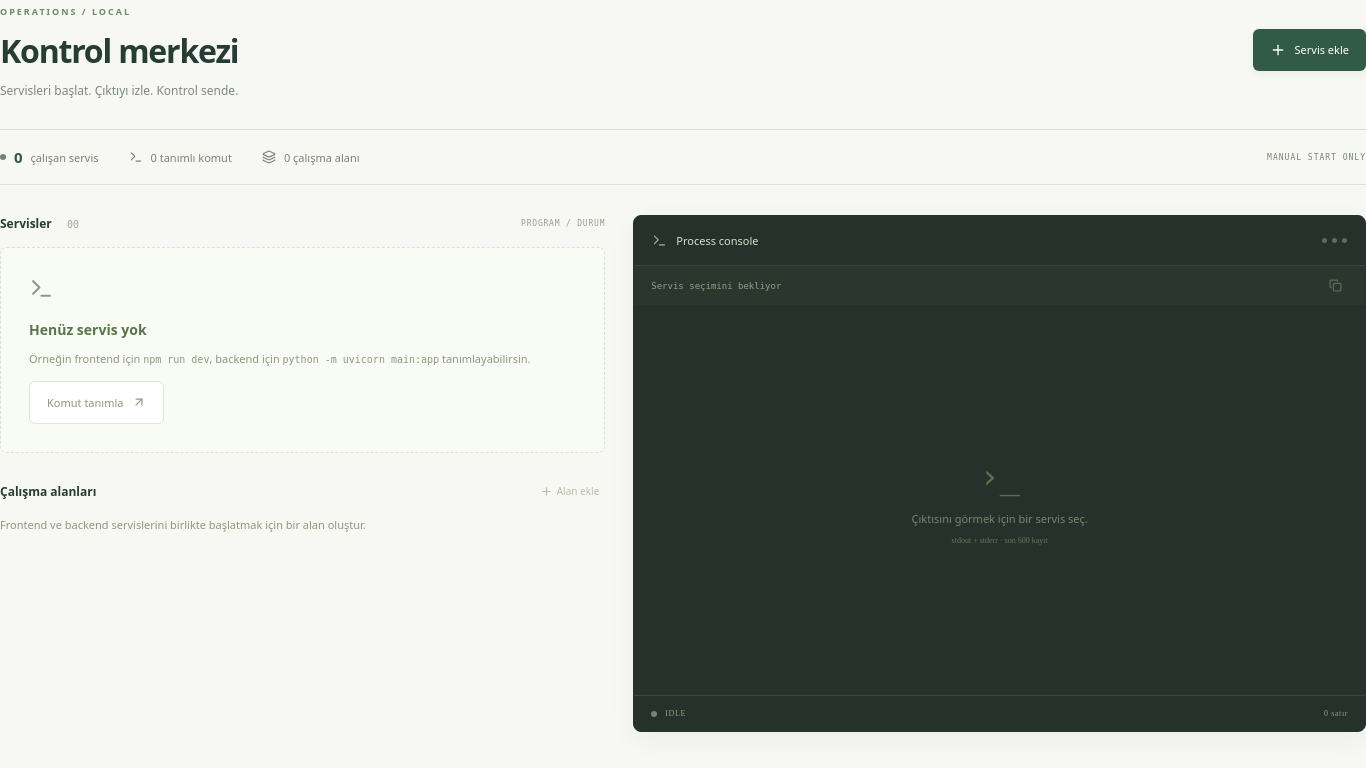
Test: process controls › clears previous service command and port when reopening the form
The width and height of the screenshot is (1366, 768).
Click the button "Servis ekle" at (1309, 50), box [1252,28,1365,70]
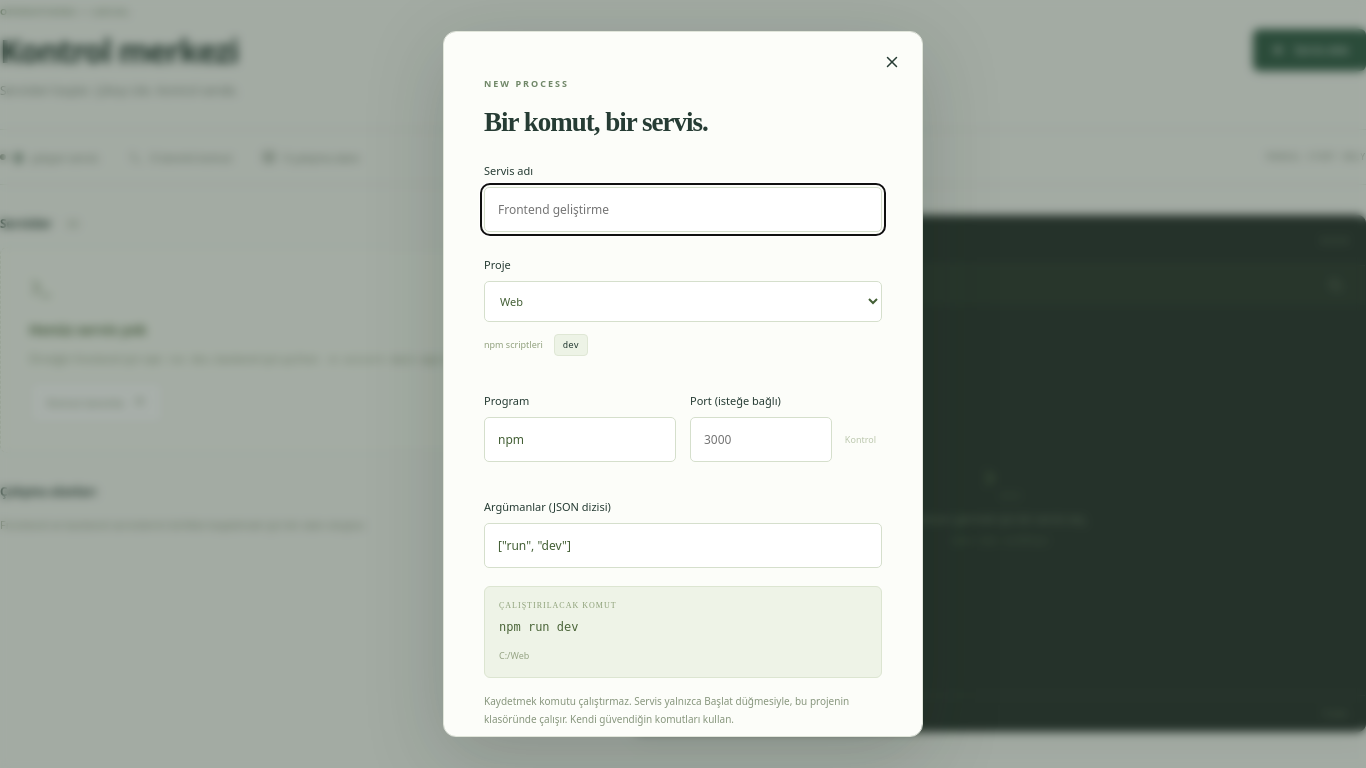
Replace the text in the field labelled "Program" with "python" at (580, 439), box [484,417,676,462]
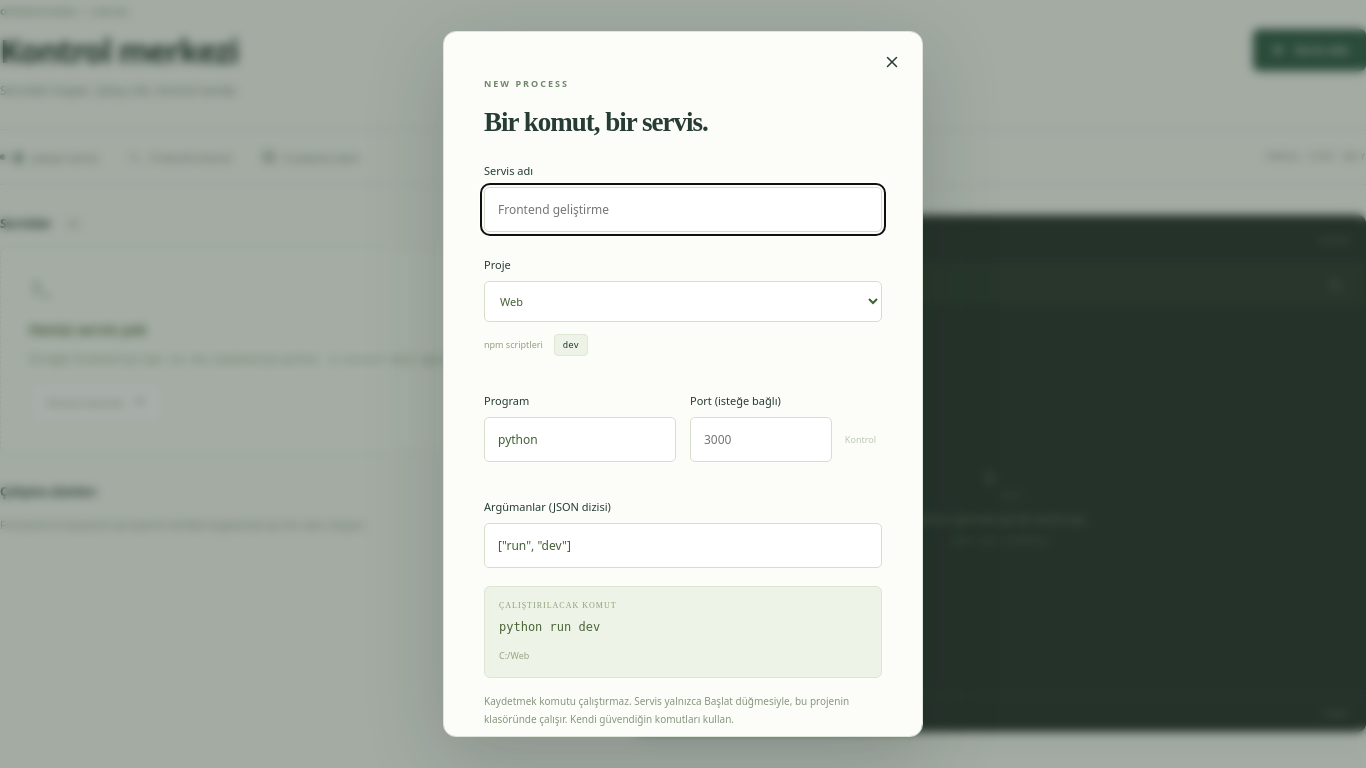
Type "8000" into the number field at (761, 439), box [690,417,832,462]
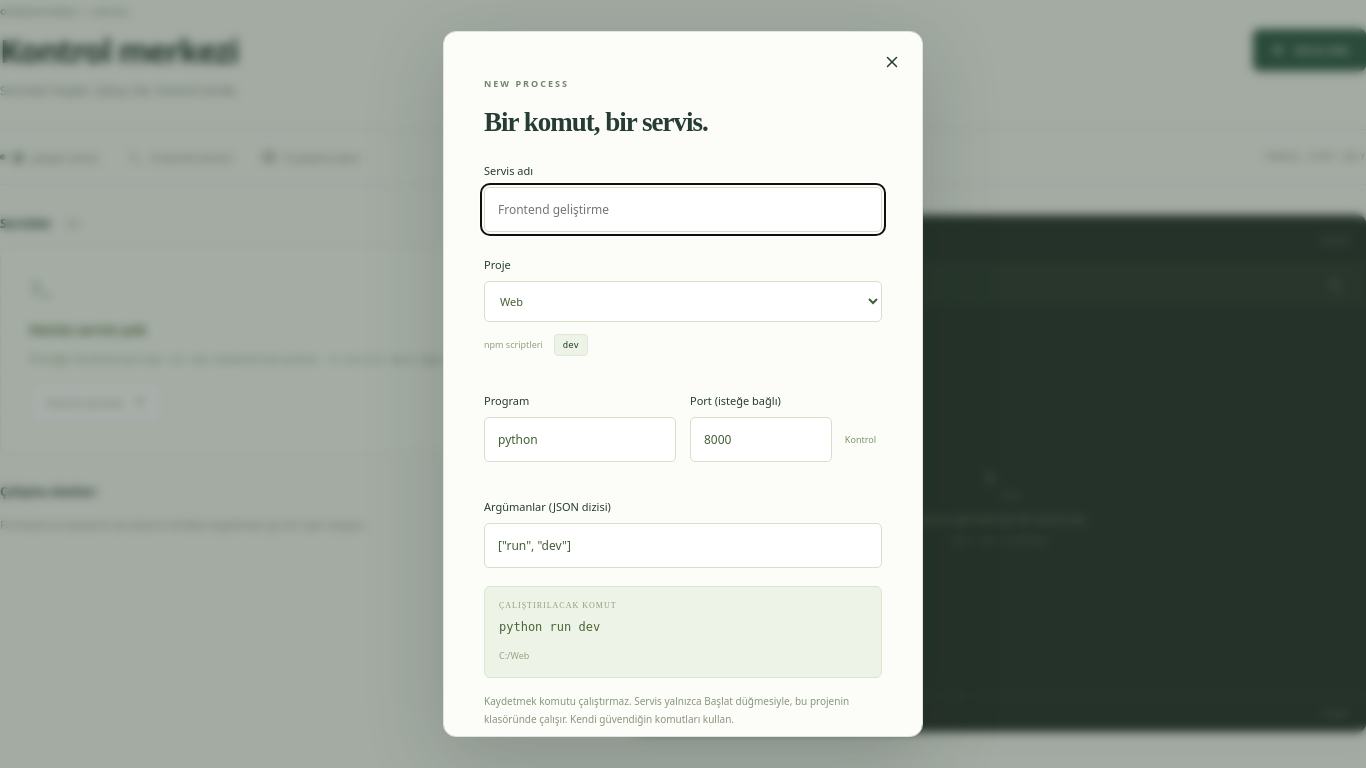
Click the button named "Kapat" at (892, 62), box [876,46,908,78]
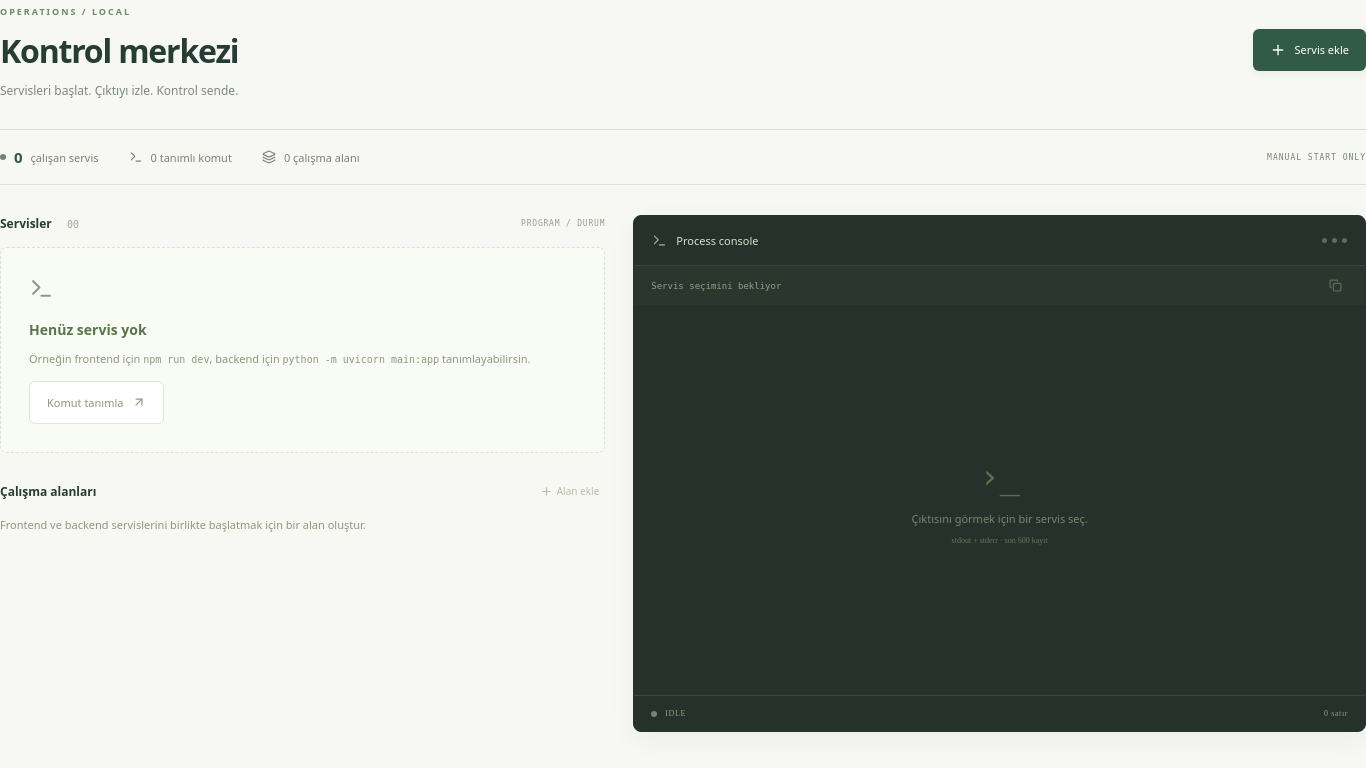
Click the button "Servis ekle" at (1309, 50), box [1252,28,1365,70]
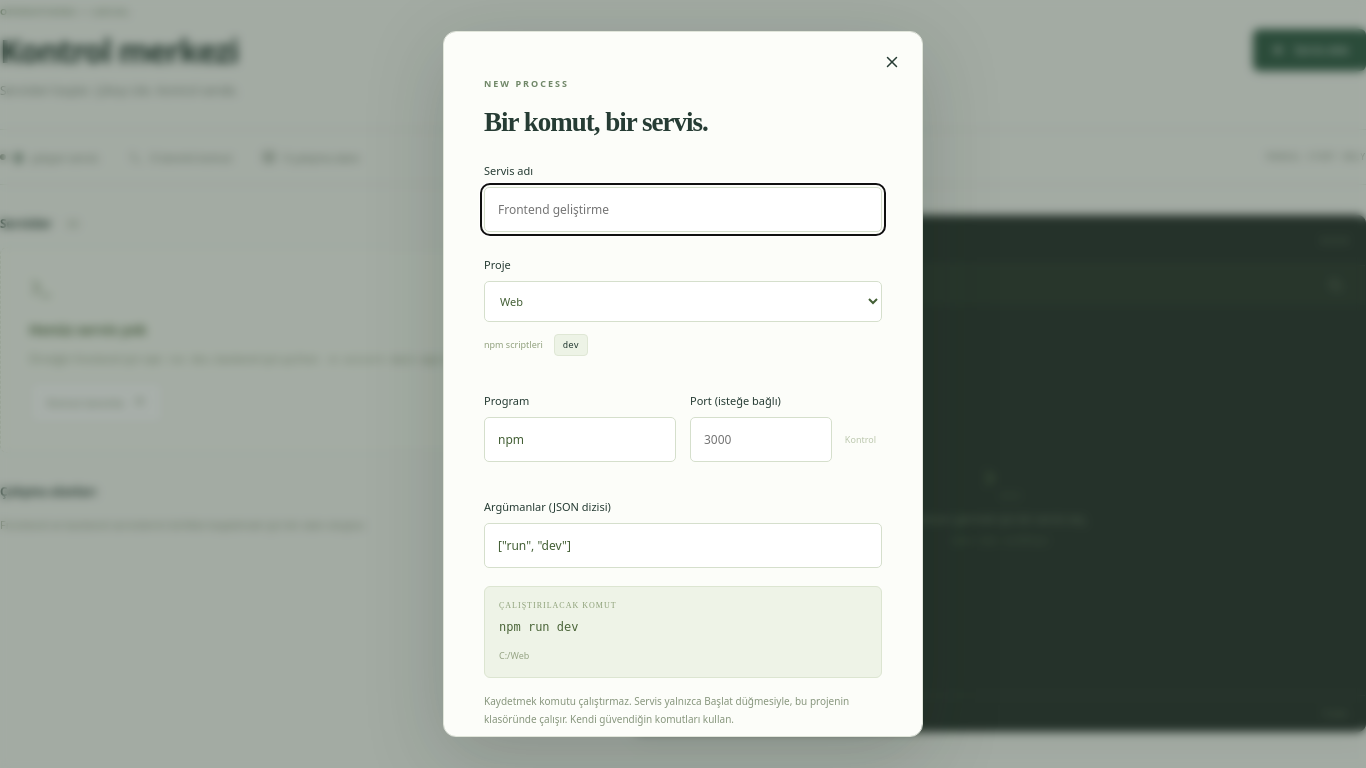
expect the field labelled "Program" holds "npm": met, box [484,417,676,462]
expect the number field is empty: met, box [690,417,832,462]
